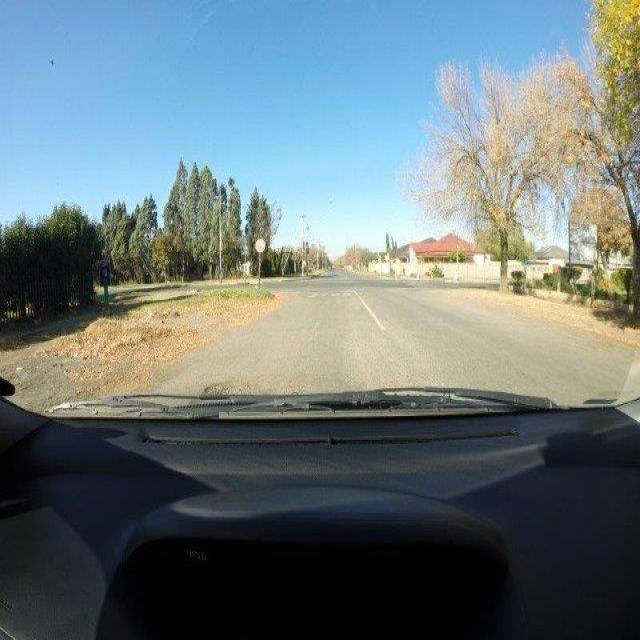lubang: (195, 375, 264, 396)
